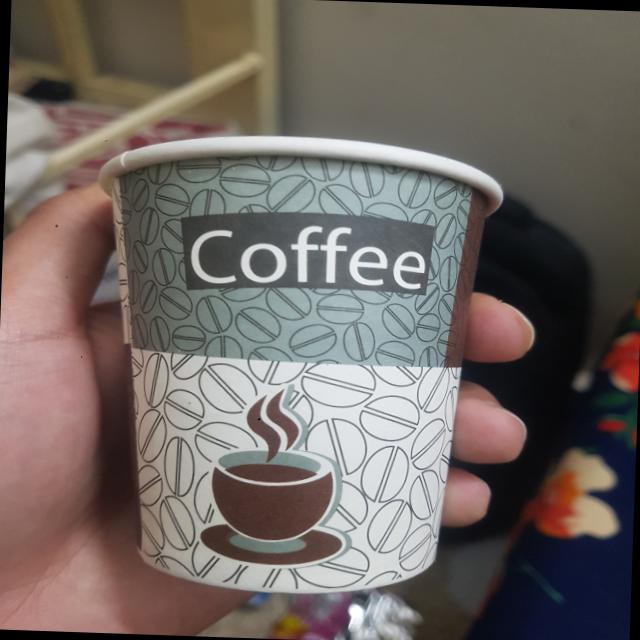electronic: (83, 129, 506, 600)
